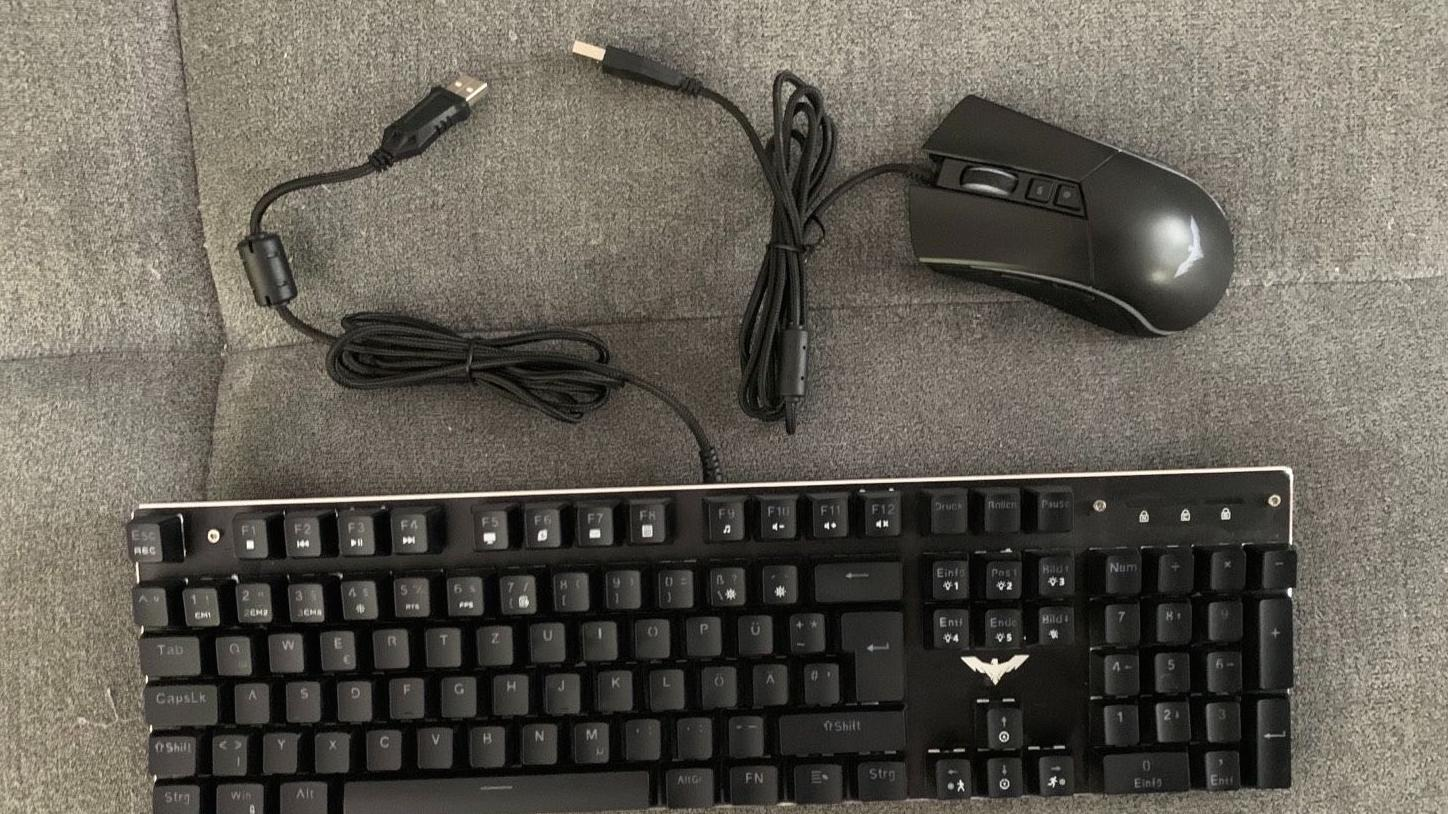0: (655, 565, 694, 606)
1: (180, 583, 219, 625)
2: (233, 578, 272, 621)
3: (284, 579, 325, 620)
4: (339, 576, 378, 617)
5: (391, 573, 430, 616)
6: (443, 571, 483, 614)
7: (497, 571, 537, 612)
8: (551, 569, 590, 610)
9: (602, 566, 640, 607)
a: (232, 679, 268, 722)
accent: (757, 560, 796, 602)
ae: (749, 660, 787, 703)
alt-left: (276, 778, 327, 814)
altgr-right: (661, 765, 714, 804)
b: (466, 722, 505, 765)
c: (363, 725, 401, 768)
caret: (131, 584, 167, 624)
comma: (622, 715, 659, 758)
d: (335, 675, 371, 719)
del: (811, 558, 901, 599)
e: (318, 626, 356, 668)
enter: (837, 607, 903, 701)
f: (387, 674, 423, 716)
g: (438, 672, 476, 715)
h: (490, 670, 528, 712)
hash: (800, 659, 838, 702)
i: (579, 617, 617, 657)
j: (542, 669, 579, 711)
k: (594, 666, 632, 709)
keyboard: (119, 458, 1311, 814)
l: (646, 664, 684, 707)
less: (208, 730, 246, 773)
m: (570, 718, 608, 760)
minus: (724, 712, 762, 754)
n: (518, 720, 556, 762)
o: (631, 614, 670, 656)
oe: (699, 662, 736, 706)
p: (683, 612, 720, 654)
plus: (786, 608, 824, 650)
point: (673, 714, 712, 756)
q: (213, 631, 251, 673)
r: (371, 625, 409, 666)
s: (283, 677, 320, 720)
shift-left: (145, 731, 195, 775)
shift-lock: (141, 680, 218, 725)
shift-right: (775, 708, 905, 753)
space: (337, 770, 651, 814)
ss: (706, 563, 745, 604)
strg-left: (149, 782, 199, 814)
strg-right: (853, 759, 907, 797)
t: (423, 622, 460, 664)
tab: (136, 632, 201, 675)
u: (527, 618, 565, 660)
ue: (734, 610, 771, 653)
v: (415, 723, 452, 766)
w: (266, 629, 304, 671)
x: (312, 728, 349, 771)
y: (260, 728, 297, 771)
z: (474, 621, 512, 662)
